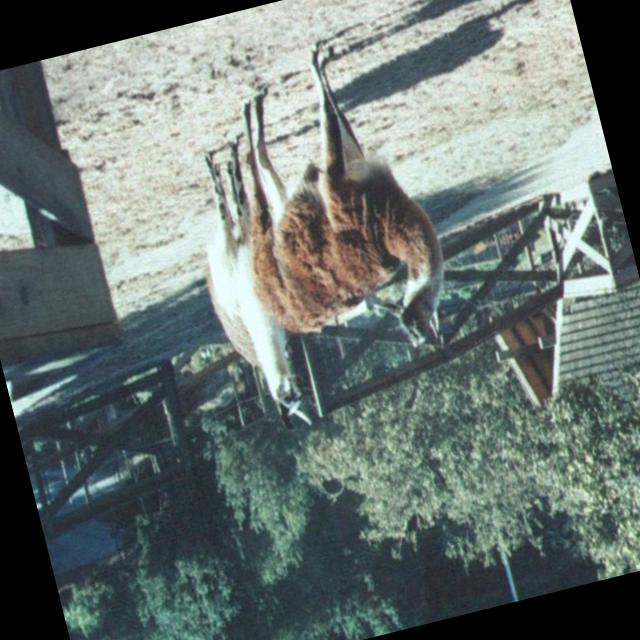alpaca: (198, 24, 466, 384), (176, 136, 318, 443)
